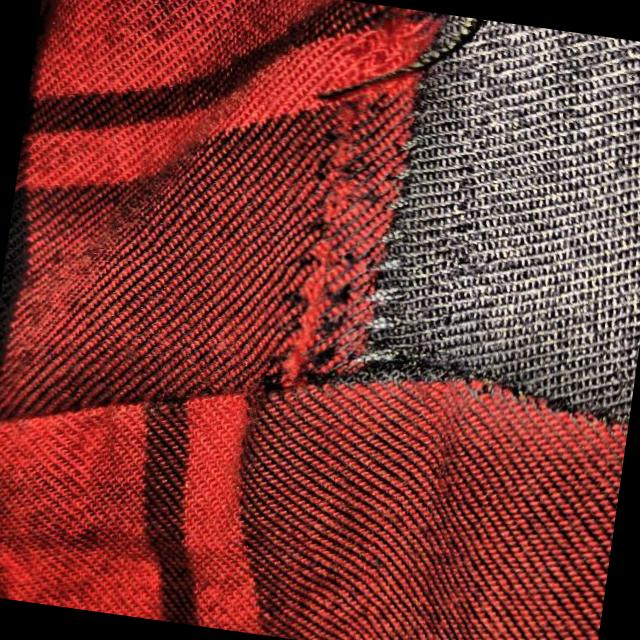gray stitch: (238, 0, 485, 425)
